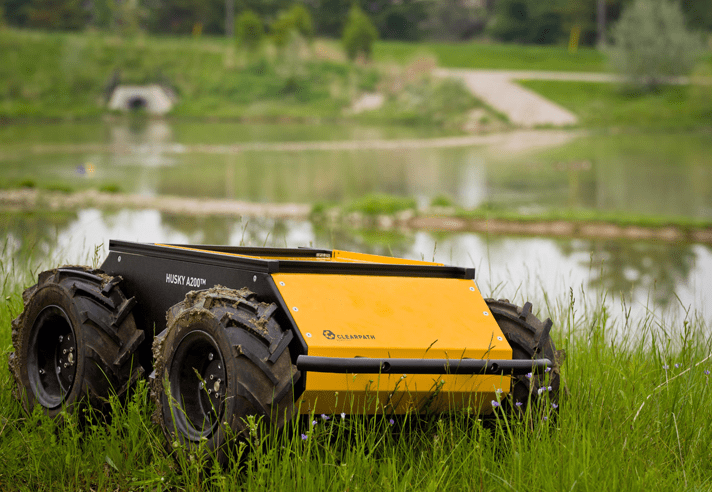husky: (10, 238, 566, 472)
